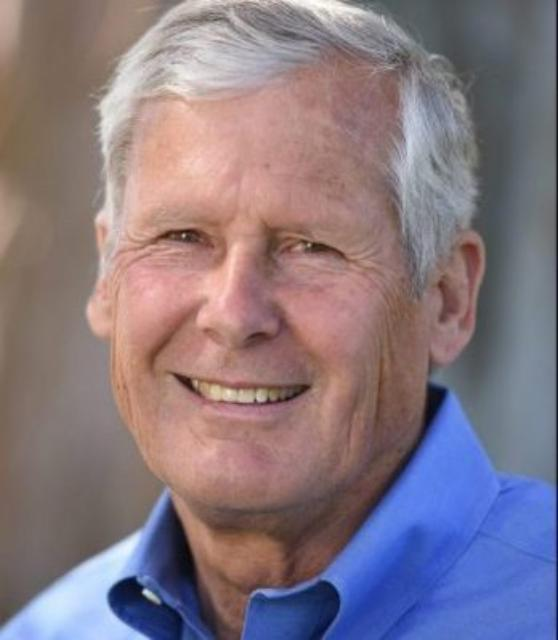crows_feet: (115, 228, 156, 266), (344, 245, 386, 278)
gummy_smile: (146, 316, 174, 372)
masseter: (368, 344, 390, 416)
